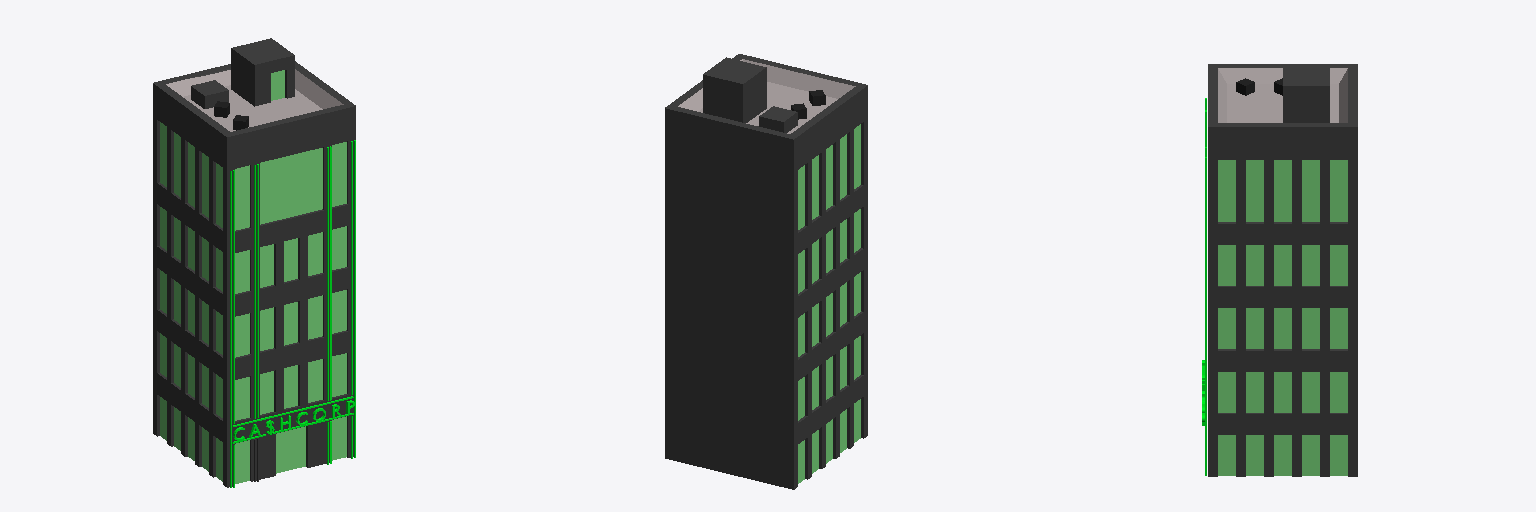
3 views of the same model, side by side, from view 1: azimuth 30°, elevation 25°; view 2: azimuth 150°, elevation 25°; view 3: azimuth 270°, elevation 25° (orthographic).
Parts seen in each view (by area): view 1: Cube.012_Cube.018; view 2: Cube.012_Cube.018; view 3: Cube.012_Cube.018.
Part boxes in pixels (left/top/right/bottom): Cube.012_Cube.018: left=153, top=38, right=355, bottom=487; Cube.012_Cube.018: left=665, top=54, right=867, bottom=489; Cube.012_Cube.018: left=1202, top=64, right=1357, bottom=476.
Size of the model in its own units: 10 by 28.07 by 10.4.
1 materials, 1 textured.